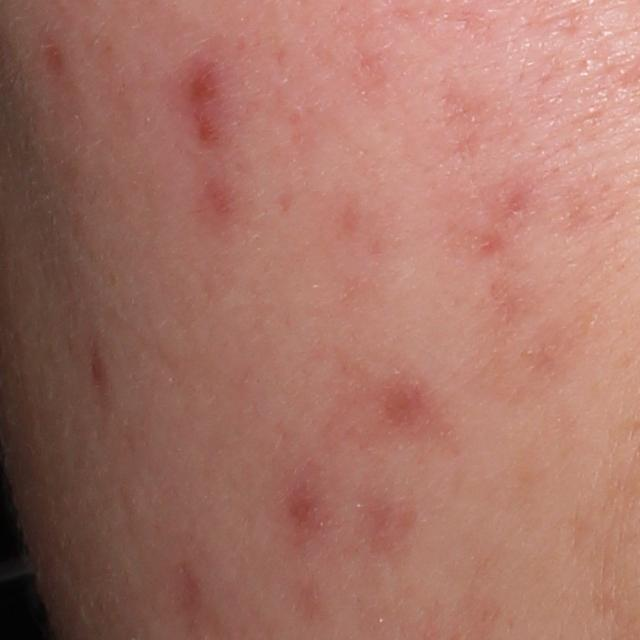papule: (176, 58, 226, 114)
